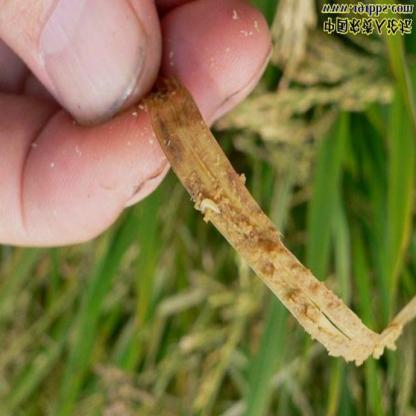whorl-maggot: (197, 190, 224, 223)
